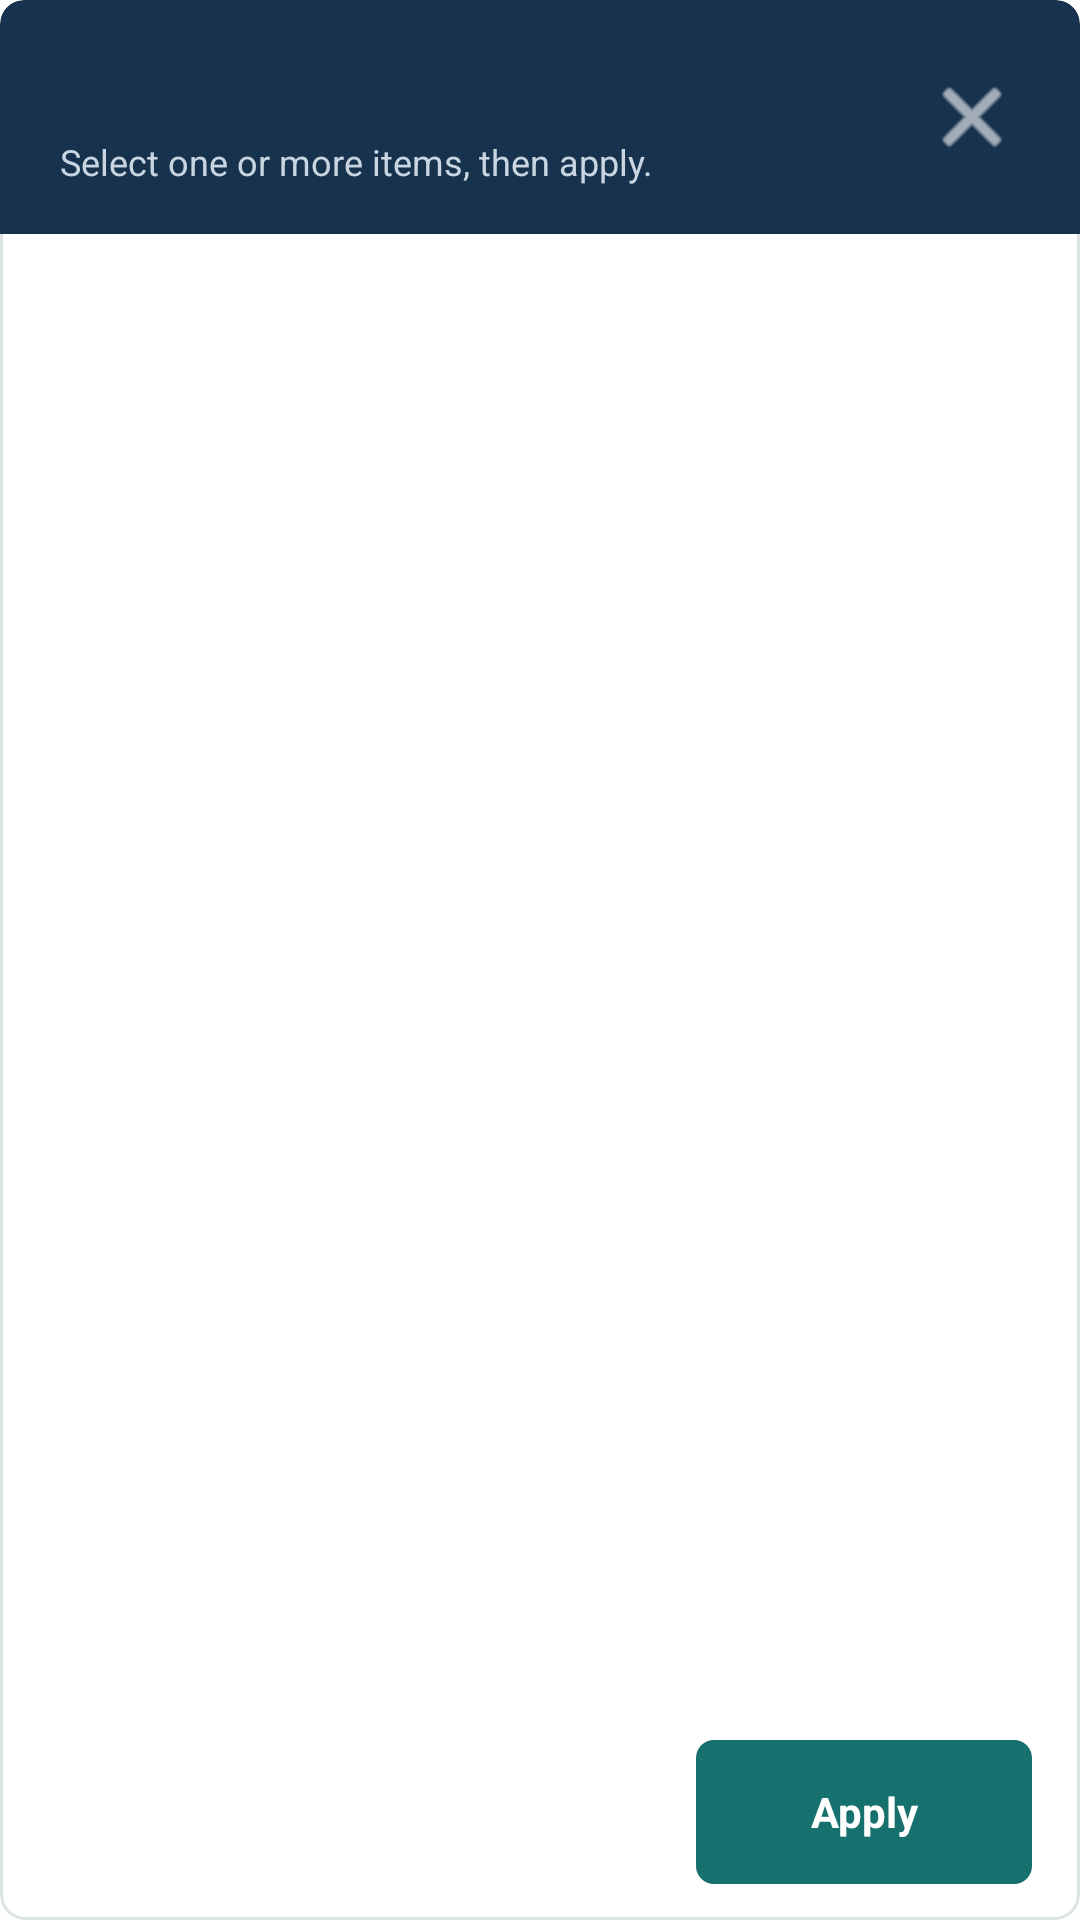

Screen size 1080 x 1920. Icon name, then its box in pixels as [x1,y1,x2,y2]:
Close selection: [942,87,1002,147]
